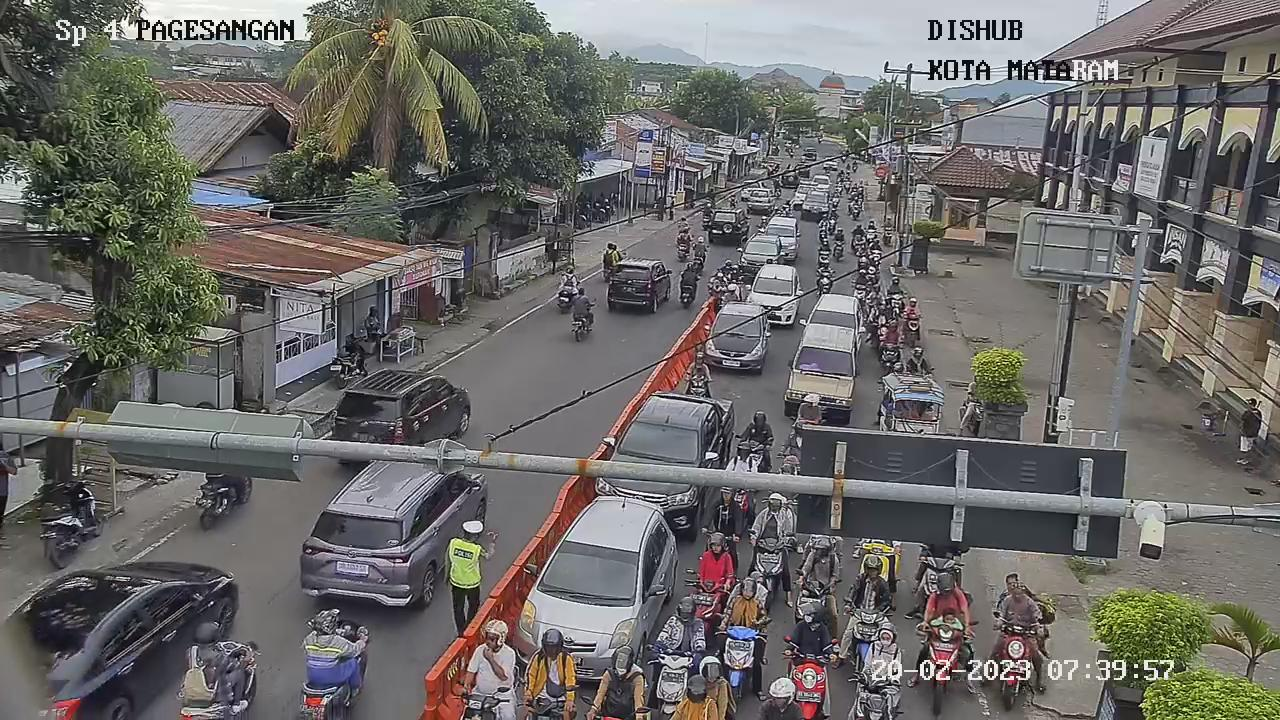car: (1, 550, 242, 720), (302, 446, 501, 608), (509, 485, 680, 671), (596, 385, 733, 520), (330, 360, 476, 460), (783, 320, 856, 419), (700, 298, 774, 374), (605, 252, 674, 313), (748, 261, 804, 331), (801, 291, 861, 348), (759, 213, 801, 263), (704, 204, 749, 249), (738, 231, 782, 272)
cidomo: (876, 366, 951, 436)
motorcycle: (780, 633, 838, 720), (988, 613, 1041, 706), (913, 618, 966, 708), (711, 622, 770, 702), (837, 600, 893, 670), (647, 642, 693, 716), (745, 529, 796, 594), (910, 545, 961, 602), (680, 563, 727, 617), (791, 571, 838, 624), (852, 533, 895, 586), (877, 339, 903, 374), (883, 292, 907, 321), (814, 266, 836, 295), (684, 372, 709, 397), (903, 315, 923, 343), (849, 232, 867, 257), (831, 238, 847, 263), (850, 281, 867, 304), (865, 248, 882, 268), (864, 264, 880, 284), (817, 226, 832, 243), (865, 228, 879, 246)
person: (297, 603, 372, 689), (520, 623, 583, 708), (578, 646, 649, 720), (459, 615, 516, 703), (179, 618, 234, 700), (840, 553, 897, 631), (783, 595, 837, 674), (916, 570, 974, 641), (655, 590, 711, 661), (673, 656, 732, 720), (743, 486, 796, 554), (687, 530, 737, 597), (854, 624, 907, 687), (722, 572, 771, 639), (989, 575, 1039, 639), (791, 534, 843, 593), (732, 403, 776, 455), (707, 482, 744, 528), (786, 391, 830, 425), (684, 345, 714, 385), (568, 285, 592, 318), (557, 263, 580, 294), (879, 319, 901, 348), (907, 343, 928, 373), (679, 260, 698, 291), (691, 233, 710, 261), (602, 241, 621, 266), (720, 283, 739, 306), (884, 276, 903, 299), (815, 257, 833, 280), (904, 296, 922, 318), (676, 226, 693, 248), (868, 283, 884, 305), (850, 221, 865, 239), (854, 268, 868, 287), (701, 201, 715, 219), (818, 213, 831, 232), (816, 238, 831, 254), (832, 227, 846, 244), (868, 238, 882, 253), (677, 216, 690, 232), (867, 217, 879, 231)
